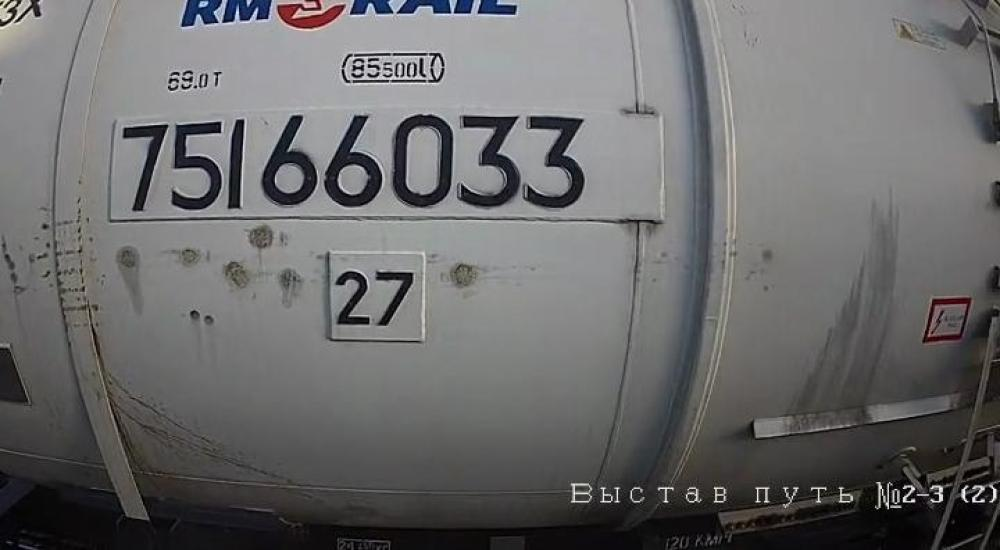Wagon-number: (111, 110, 590, 217)
